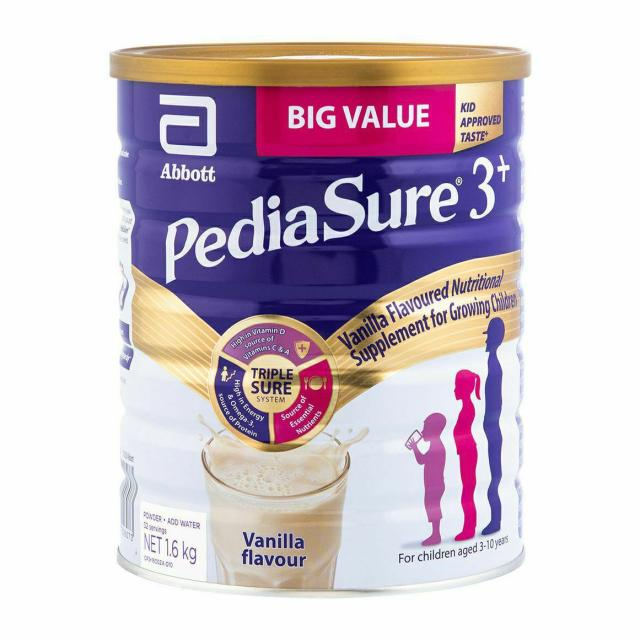food-supliment: (125, 70, 524, 575)
